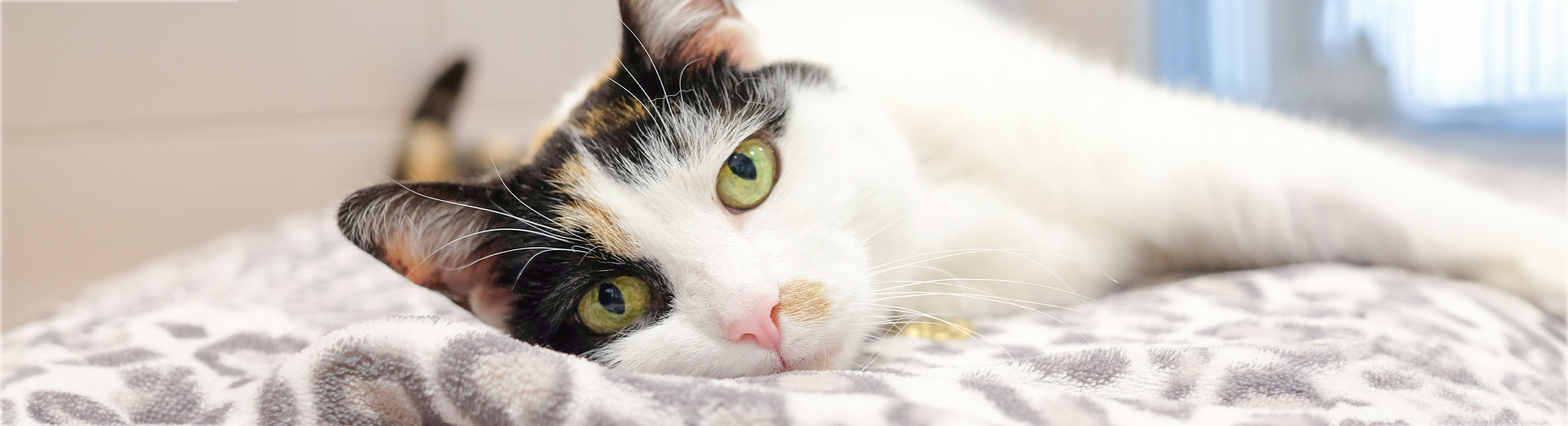Cat: (303, 2, 1564, 378)
